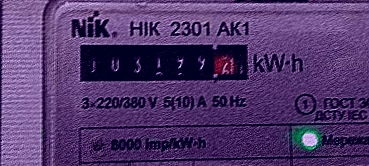0: (108, 54, 120, 73), (85, 54, 95, 72)
1: (152, 51, 162, 69)
3: (130, 54, 141, 74)
6: (218, 60, 229, 74)
9: (173, 50, 184, 70), (195, 53, 206, 71)
screen: (71, 33, 254, 89)
